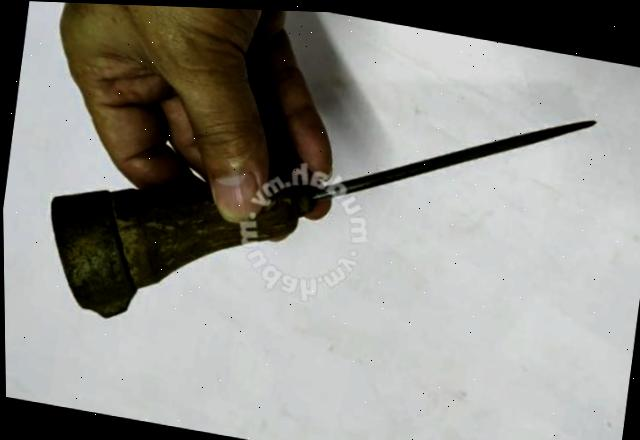ice pick: (33, 24, 598, 394)
